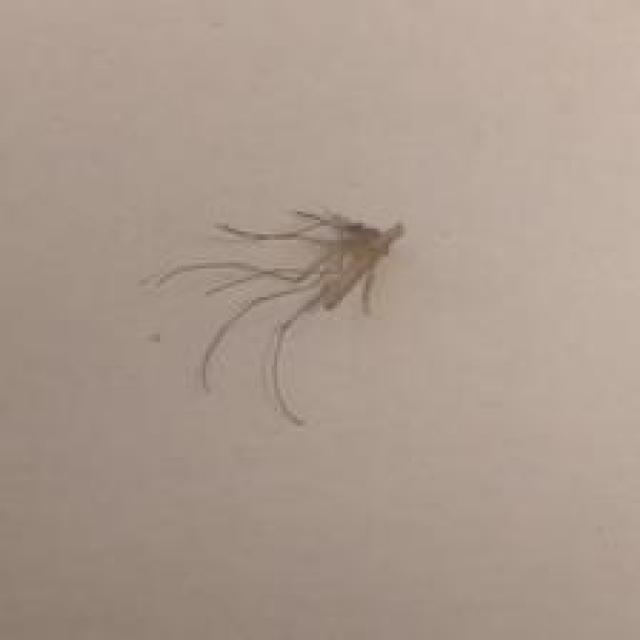Culex: (140, 204, 406, 427)
